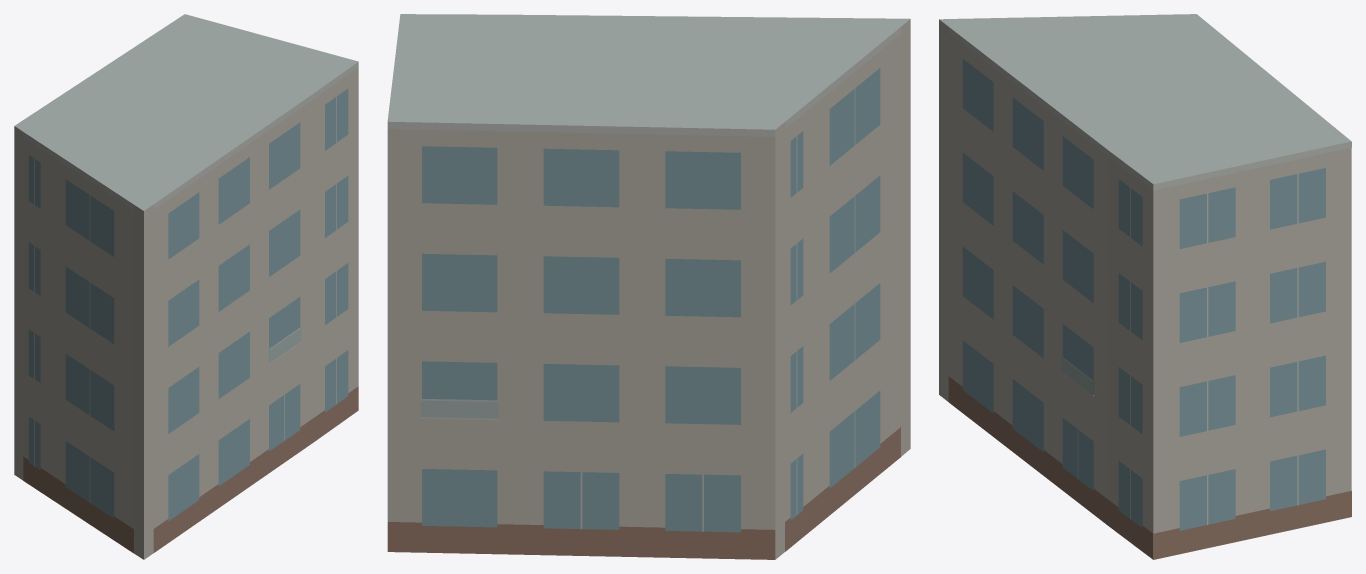
File: survey-upis-32961831.glb
The picture shows the model from 3 angles, left to right: view 1: azimuth 30°, elevation 25°; view 2: azimuth 150°, elevation 25°; view 3: azimuth 270°, elevation 25°; orthographic projection. The views are drawn at different scales.
Parts seen in each view (by area): view 1: survey-upis-32961831.tmp; view 2: survey-upis-32961831.tmp; view 3: survey-upis-32961831.tmp.
Part boxes in pixels (<box>): survey-upis-32961831.tmp: <box>14,14,358,559</box>; survey-upis-32961831.tmp: <box>387,14,910,559</box>; survey-upis-32961831.tmp: <box>939,14,1351,559</box>.
Bounding box in the file's own units: 14.16 × 14.55 × 14.5.
